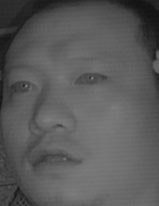eye: (74, 66, 109, 89), (8, 76, 41, 99)
mouth: (28, 140, 87, 178)
